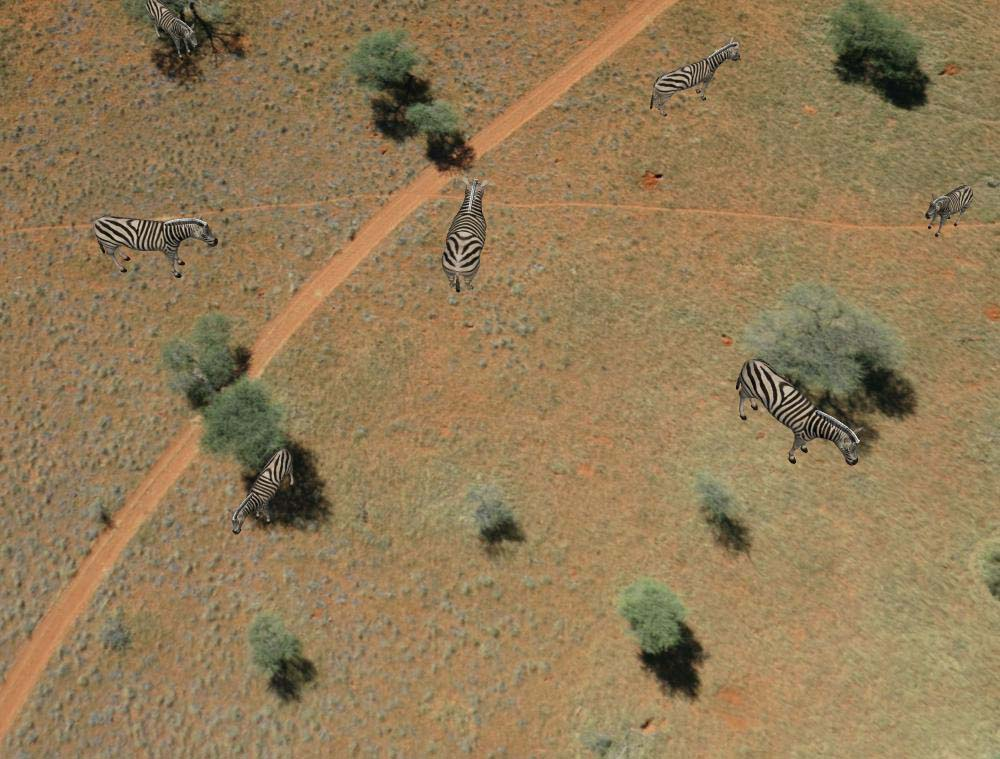zebra: (728, 354, 863, 486), (90, 213, 220, 281), (650, 35, 740, 116), (231, 440, 302, 542), (439, 172, 493, 296), (925, 173, 974, 240)
